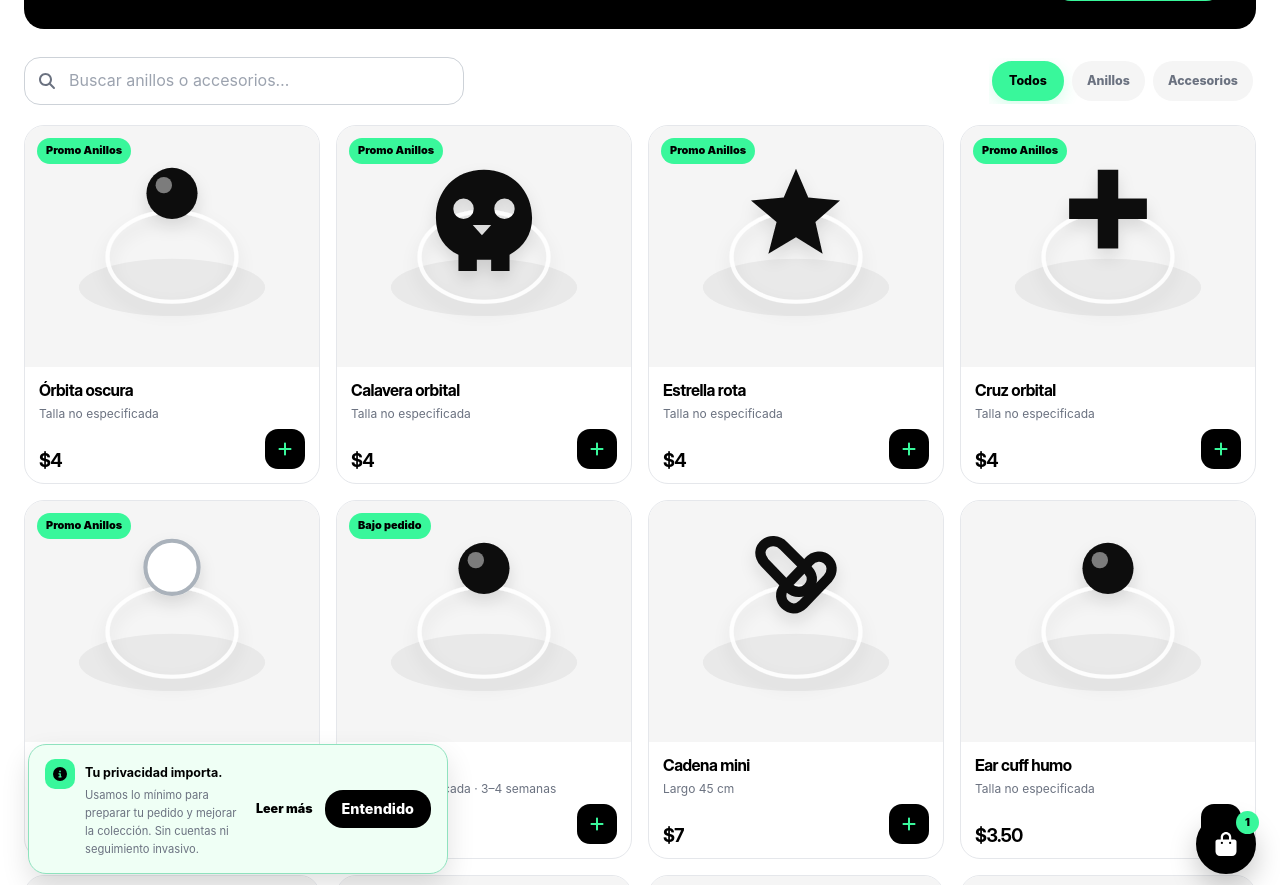
Test: Store › shows the compact personal delivery list and follows the selected point
(page scrolled)
Step 1. Click the button named "agregar órbita oscura" → (285, 449), box top-left (265, 429), bottom-right (305, 469)
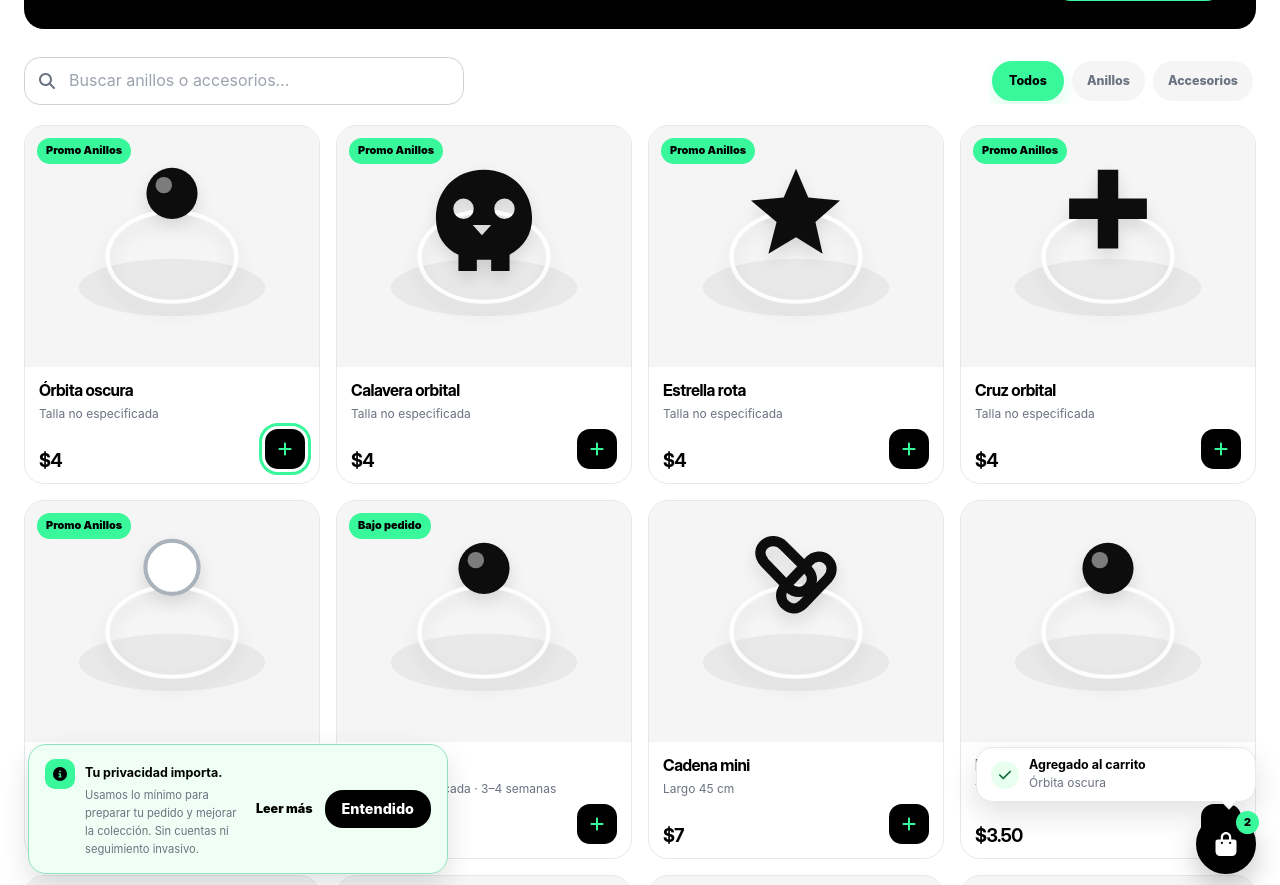
Step 2. Click the button named "Abrir carrito" → (1226, 844), box top-left (1196, 814), bottom-right (1256, 874)
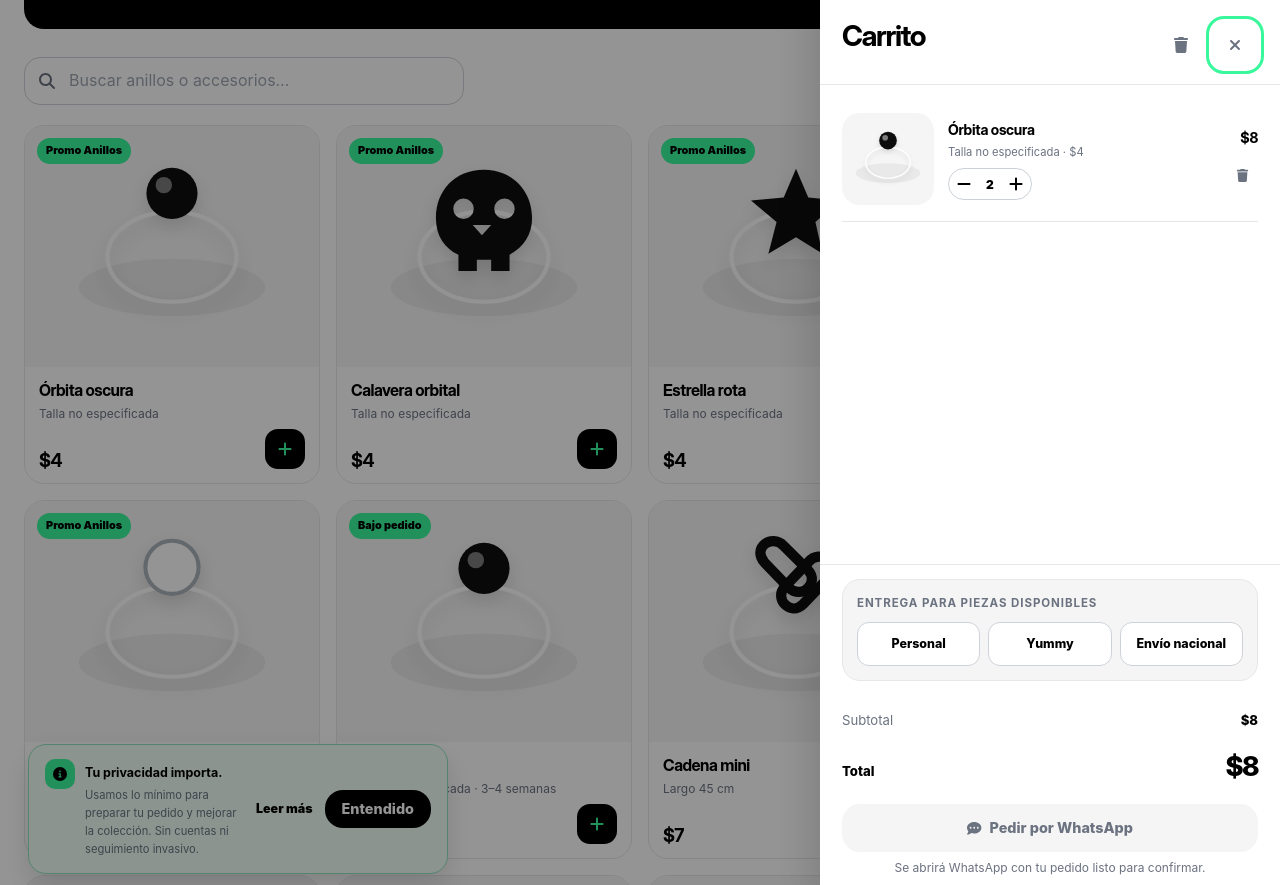
Step 3. Click the button "Personal" → (919, 644), box top-left (857, 622), bottom-right (980, 666)
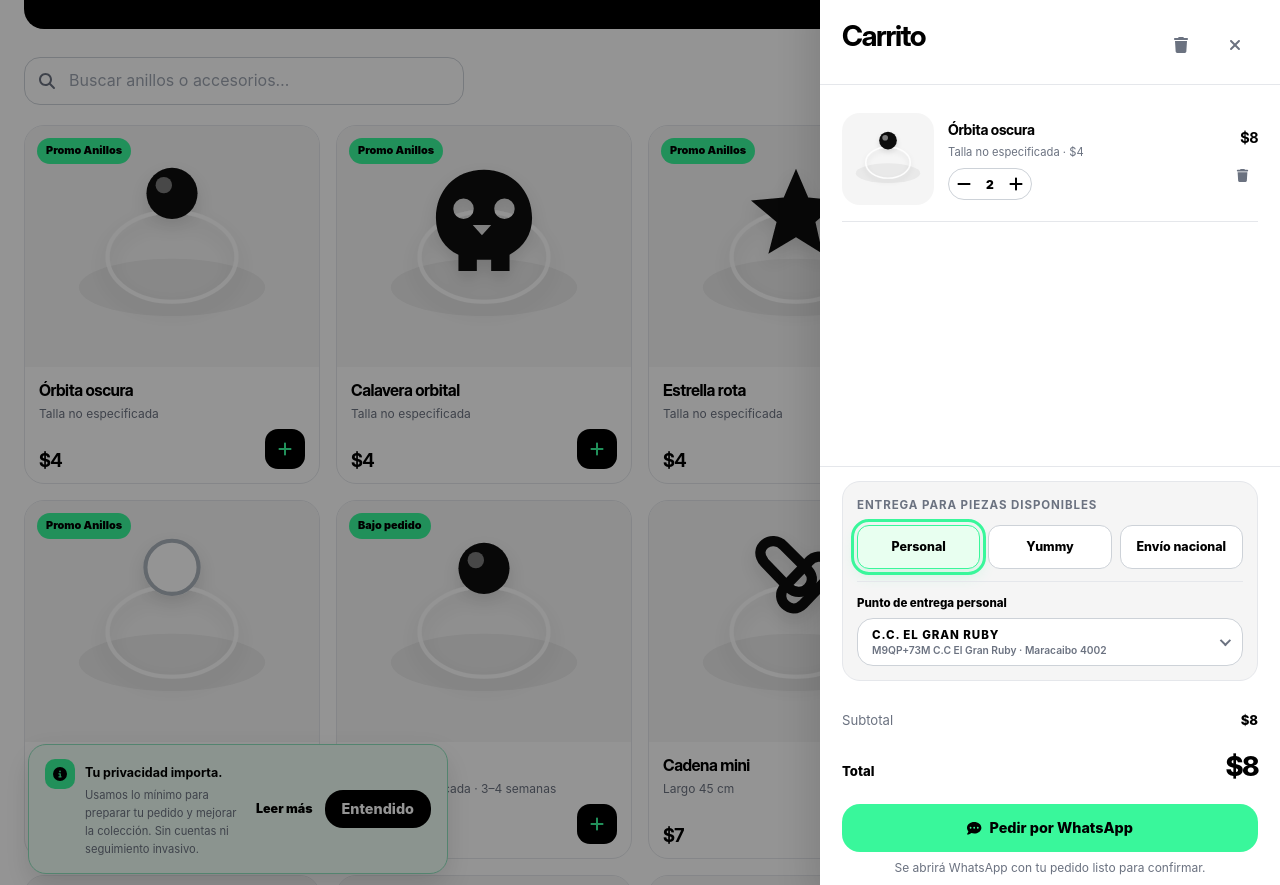
Step 4. Click the dropdown named "Punto de entrega personal" → (1050, 642), box top-left (857, 618), bottom-right (1243, 666)
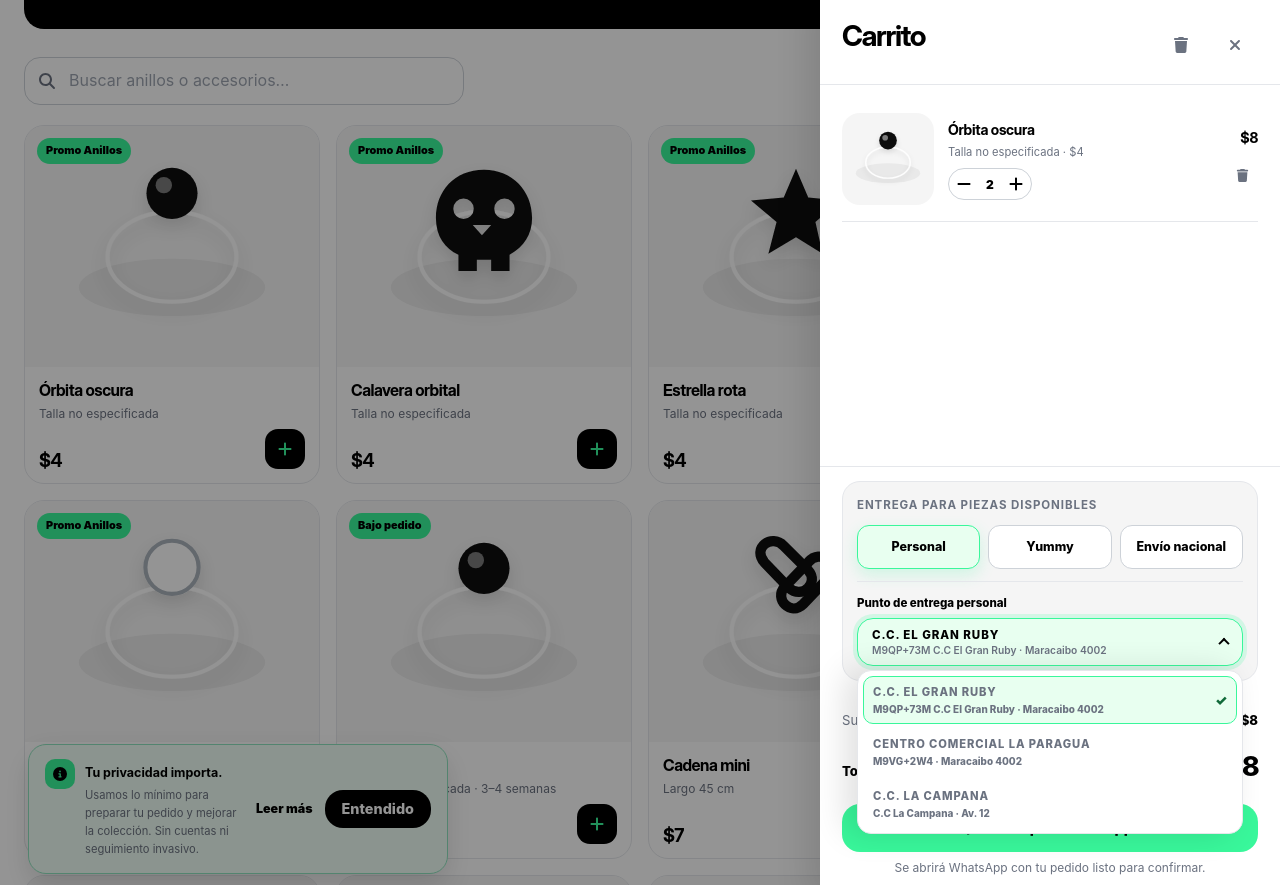
expect the option "Centro Comercial La Paragua M9VG+2W4 · Maracaibo 4002" is shown: met
Step 5. Click the option "Centro Comercial La Paragua M9VG+2W4 · Maracaibo 4002" → (1050, 752), box top-left (863, 728), bottom-right (1237, 776)
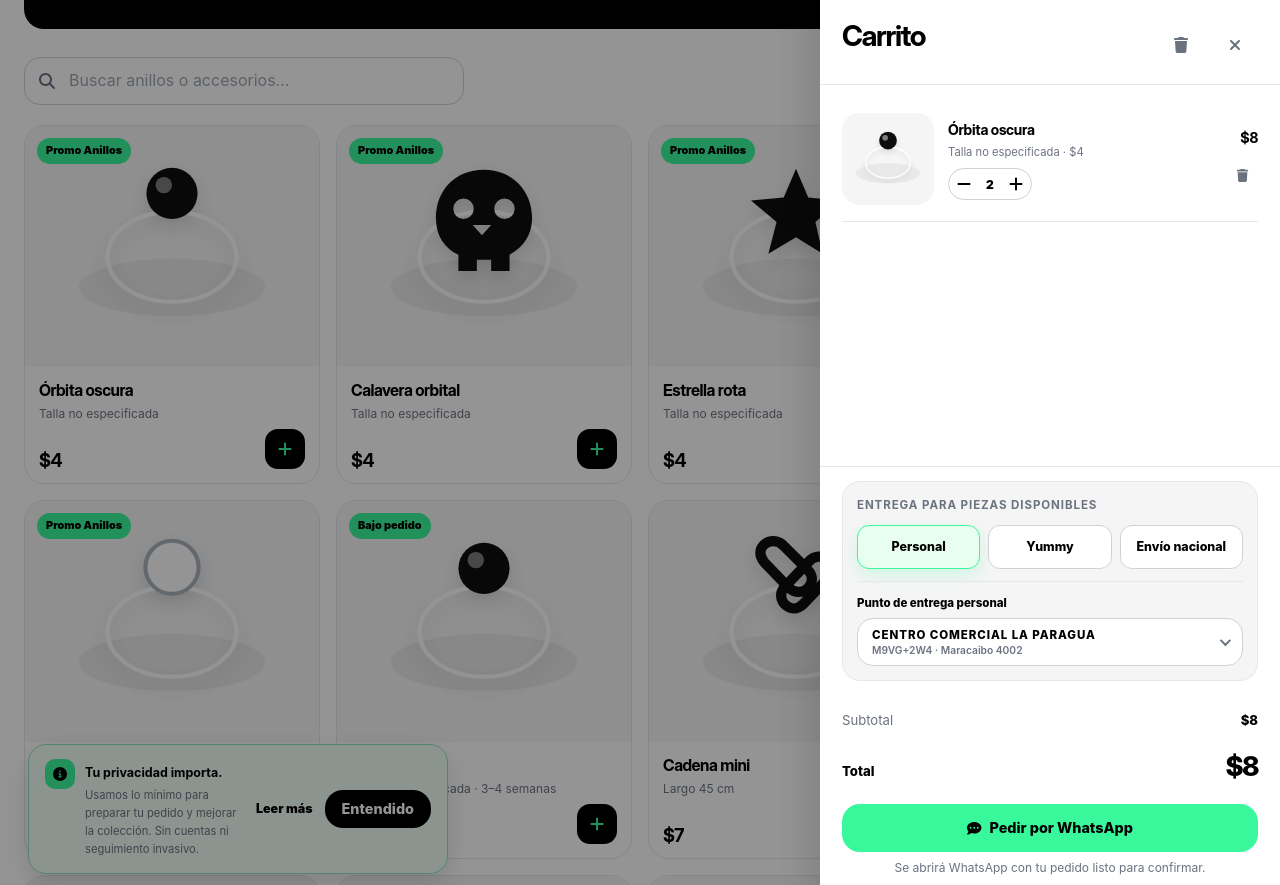
expect the dropdown named "Punto de entrega personal" is collapsed: met, box top-left (857, 618), bottom-right (1243, 666)
expect the dropdown named "Punto de entrega personal" shows "Centro Comercial La Paragua": met, box top-left (857, 618), bottom-right (1243, 666)
